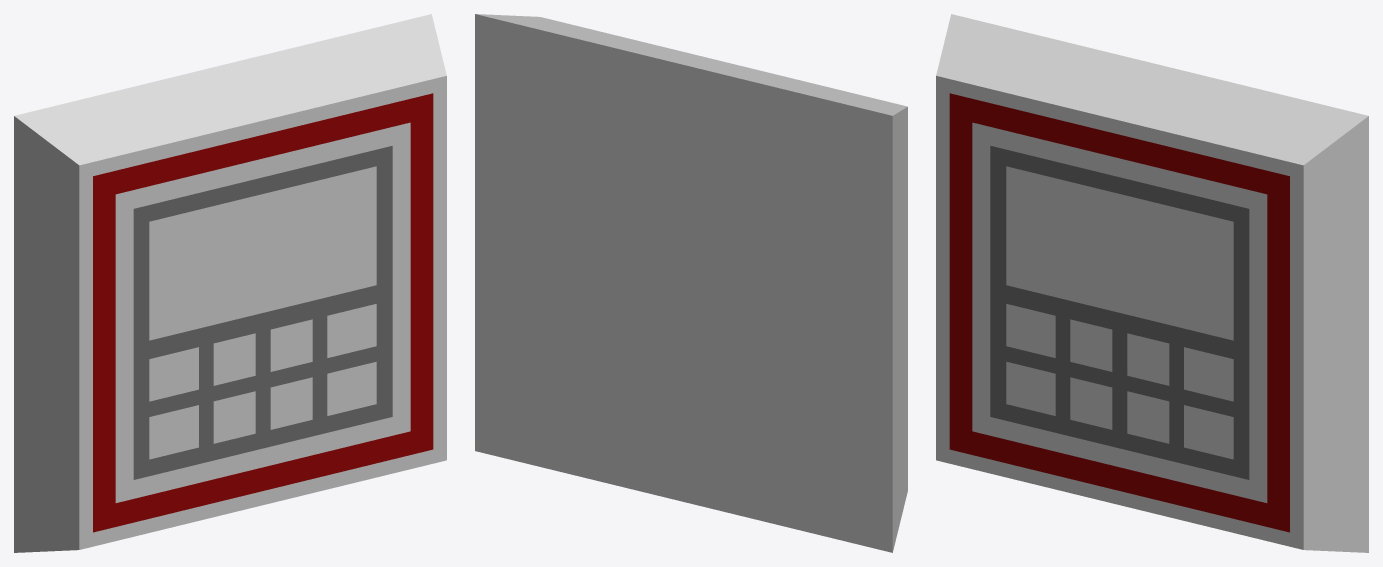
Rendered from SciFi_Modular_Semiotic_Computer_Terminal_01.fbx.
3 renders of one model, left to right at view 1: azimuth 30°, elevation 25°; view 2: azimuth 150°, elevation 25°; view 3: azimuth 330°, elevation 25°, orthographic.
Parts seen in each view (by area): view 1: SciFi_Modular_Semiotic_Computer_Terminal_01; view 2: SciFi_Modular_Semiotic_Computer_Terminal_01; view 3: SciFi_Modular_Semiotic_Computer_Terminal_01.
Part boxes in pixels (x1,y1,x2,y2): SciFi_Modular_Semiotic_Computer_Terminal_01: (14,14,446,552); SciFi_Modular_Semiotic_Computer_Terminal_01: (475,14,907,552); SciFi_Modular_Semiotic_Computer_Terminal_01: (936,14,1368,552).
Bounding box in the file's own units: 21.12 × 21.12 × 3.52.
